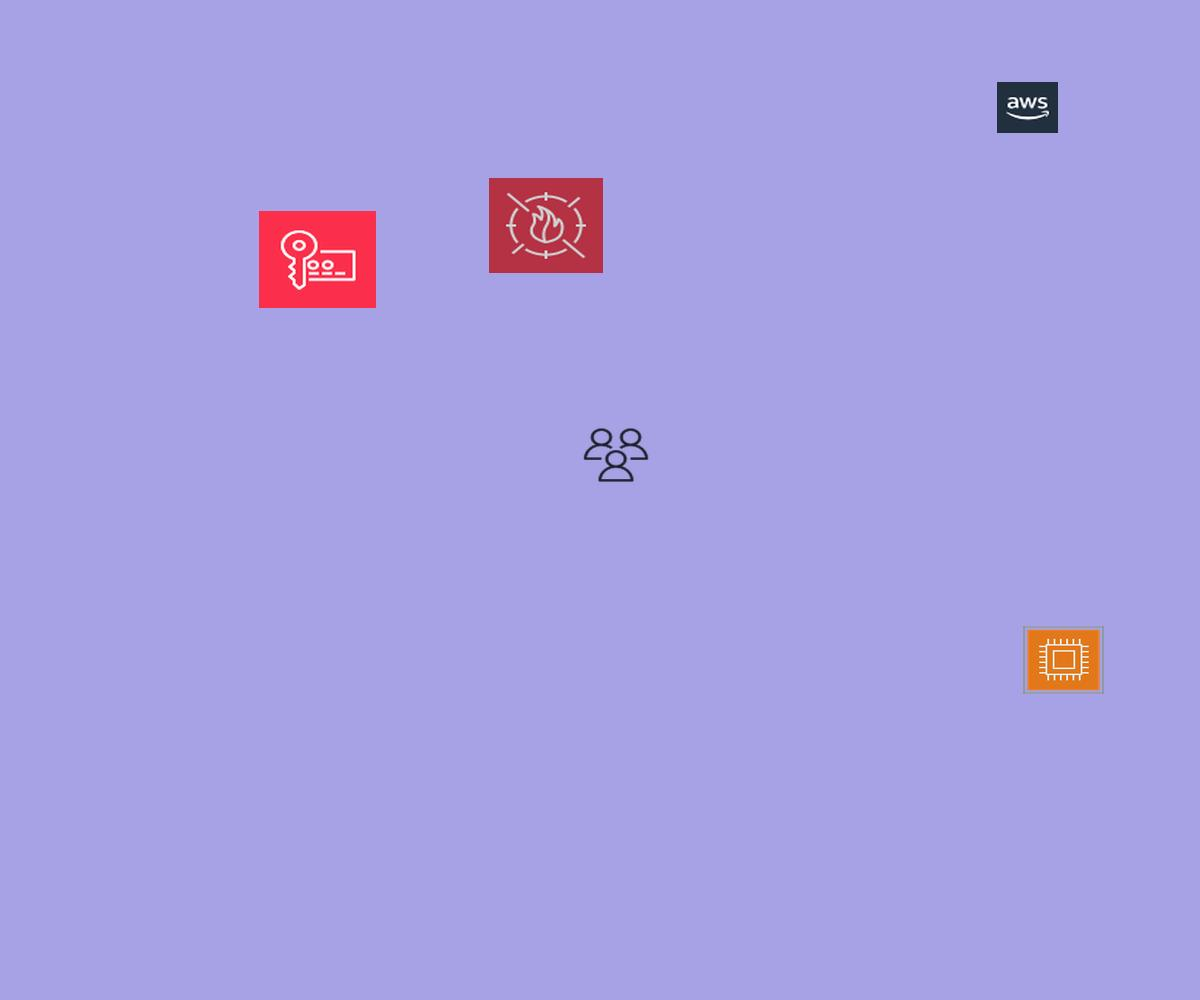AWS-Category_Compute: (1023, 626, 1104, 694)
AWS-Cloud-logo: (997, 82, 1058, 133)
AWS-Key-Management-Service: (259, 211, 376, 308)
AWS-Res_Users: (581, 426, 651, 484)
AWS-WAF: (489, 178, 603, 273)
